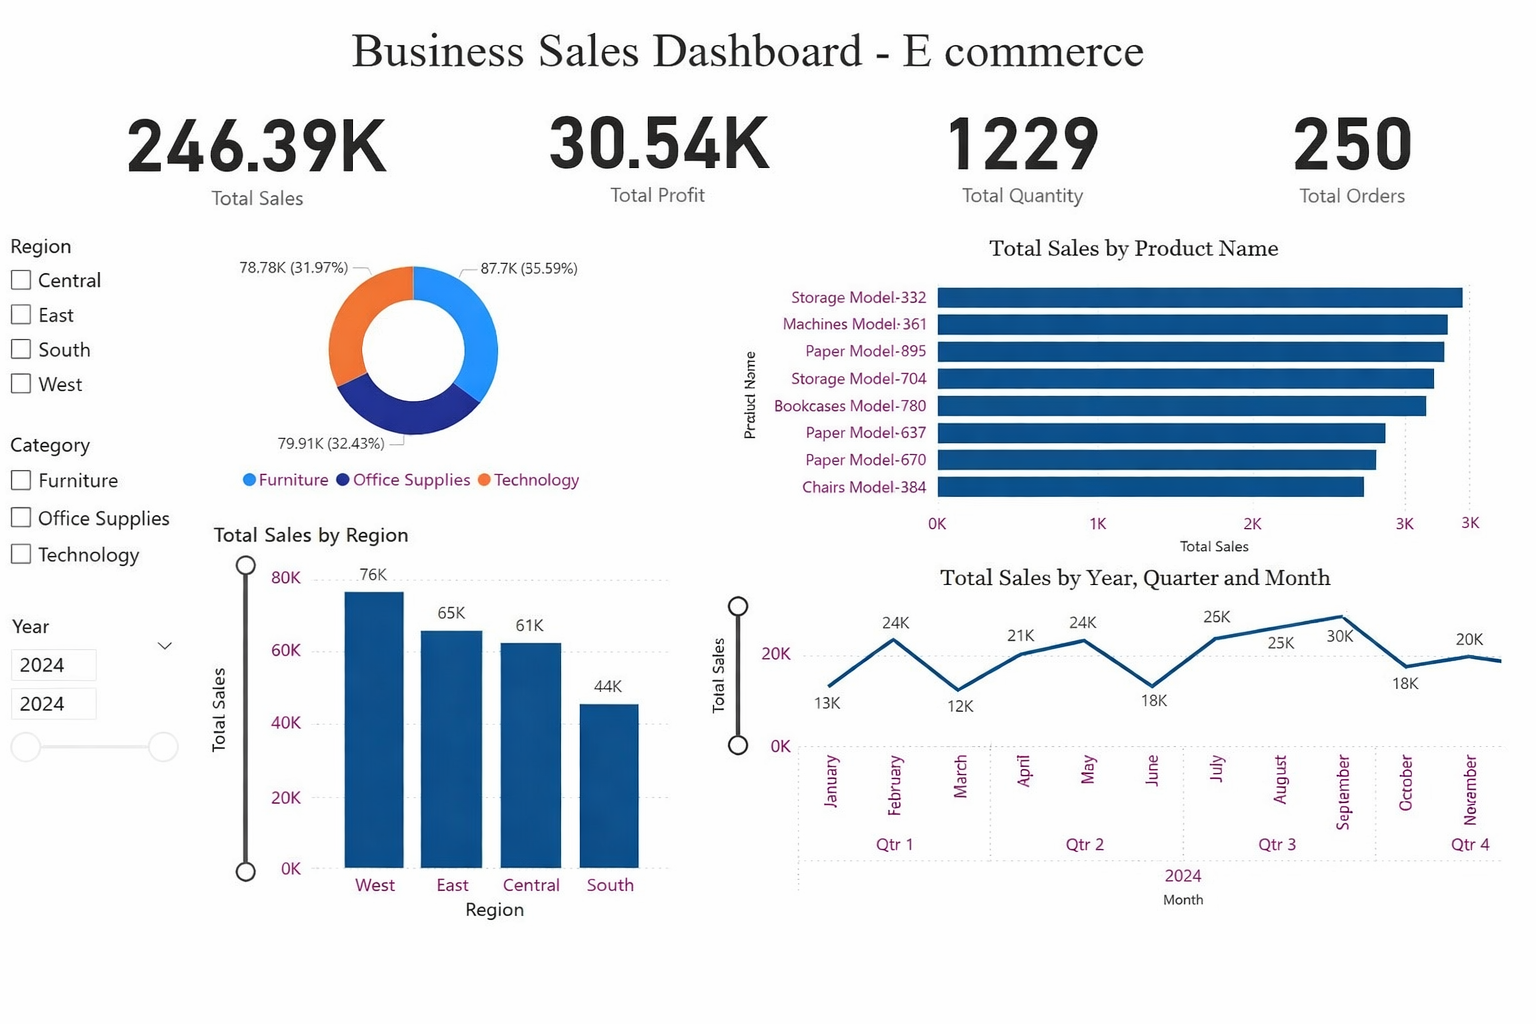

This screenshot's page, from the dashboard's own definition file:
{"tool":"powerbi","page":{"name":"TASK 1","canvas":[1280,720],"ordinal":0},"visuals":[{"type":"card","fields":{"Values":["Task1_Ecommerce_Superstore_Dataset (2).Total Sales"]},"box":[64.2,45.3,360.4,124.5],"z":0},{"type":"card","fields":{"Values":["Task1_Ecommerce_Superstore_Dataset (2).Total Profit"]},"box":[410,47.5,317.5,112.5],"z":1000},{"type":"card","fields":{"Values":["Task1_Ecommerce_Superstore_Dataset (2).Total Quantity"]},"box":[733.3,47.4,249.1,112.3],"z":2000},{"type":"card","fields":{"Values":["Task1_Ecommerce_Superstore_Dataset (2).Total Orders"]},"box":[982.5,45.6,270.2,108.8],"z":3000},{"type":"lineChart","fields":{"Category":["Task1_Ecommerce_Superstore_Dataset (2).Order Date.Variation.Date Hierarchy.Year","Task1_Ecommerce_Superstore_Dataset (2).Order Date.Variation.Date Hierarchy.Quarter","Task1_Ecommerce_Superstore_Dataset (2).Order Date.Variation.Date Hierarchy.Month","Task1_Ecommerce_Superstore_Dataset (2).Order Date.Variation.Date Hierarchy.Day"],"Y":["Task1_Ecommerce_Superstore_Dataset (2).Total Sales"]},"box":[589.5,426.3,678.9,270.2],"z":4000},{"type":"clusteredBarChart","fields":{"Y":["Task1_Ecommerce_Superstore_Dataset (2).Total Sales"],"Category":["Task1_Ecommerce_Superstore_Dataset (2).Product Name"]},"box":[615.8,170.2,652.6,256.1],"z":5000},{"type":"donutChart","fields":{"Category":["Task1_Ecommerce_Superstore_Dataset (2).Category"],"Y":["Task1_Ecommerce_Superstore_Dataset (2).Total Sales"]},"box":[182,170,360,220],"z":6000},{"type":"clusteredColumnChart","fields":{"Y":["Task1_Ecommerce_Superstore_Dataset (2).Total Sales"],"Category":["Task1_Ecommerce_Superstore_Dataset (2).Region"]},"box":[183,401.9,386.8,318.9],"z":7000},{"type":"slicer","fields":{"Values":["Task1_Ecommerce_Superstore_Dataset (2).Category"]},"box":[0,330,182,164],"z":8000},{"type":"slicer","fields":{"Values":["Task1_Ecommerce_Superstore_Dataset (2).Region"]},"box":[0,142.1,149.1,187.7],"z":9000},{"type":"slicer","fields":{"Values":["Task1_Ecommerce_Superstore_Dataset (2).Order Date.Variation.Date Hierarchy.Year"]},"box":[0,518,168,178],"z":10000},{"type":"textbox","box":[296.2,0,686.8,64.2],"z":11000}]}

Visuals, with their boxes on the page's 1280x720 design canvas (x1, y1, x2, y2). These are canvas units, not pixel positions in the 1536x1024 screenshot, which may show the page scaled, cropped or inside an application window:
card - Task1_Ecommerce_Superstore_Dataset (2).Total Sales: region(64, 45, 425, 170)
card - Task1_Ecommerce_Superstore_Dataset (2).Total Profit: region(410, 48, 728, 160)
card - Task1_Ecommerce_Superstore_Dataset (2).Total Quantity: region(733, 47, 982, 160)
card - Task1_Ecommerce_Superstore_Dataset (2).Total Orders: region(982, 46, 1253, 154)
lineChart - Task1_Ecommerce_Superstore_Dataset (2).Order Date.Variation.Date Hierarchy.Year x Task1_Ecommerce_Superstore_Dataset (2).Order Date.Variation.Date Hierarchy.Quarter: region(590, 426, 1268, 696)
clusteredBarChart - Task1_Ecommerce_Superstore_Dataset (2).Total Sales x Task1_Ecommerce_Superstore_Dataset (2).Product Name: region(616, 170, 1268, 426)
donutChart - Task1_Ecommerce_Superstore_Dataset (2).Category x Task1_Ecommerce_Superstore_Dataset (2).Total Sales: region(182, 170, 542, 390)
clusteredColumnChart - Task1_Ecommerce_Superstore_Dataset (2).Total Sales x Task1_Ecommerce_Superstore_Dataset (2).Region: region(183, 402, 570, 721)
slicer - Task1_Ecommerce_Superstore_Dataset (2).Category: region(0, 330, 182, 494)
slicer - Task1_Ecommerce_Superstore_Dataset (2).Region: region(0, 142, 149, 330)
slicer - Task1_Ecommerce_Superstore_Dataset (2).Order Date.Variation.Date Hierarchy.Year: region(0, 518, 168, 696)
textbox: region(296, 0, 983, 64)
